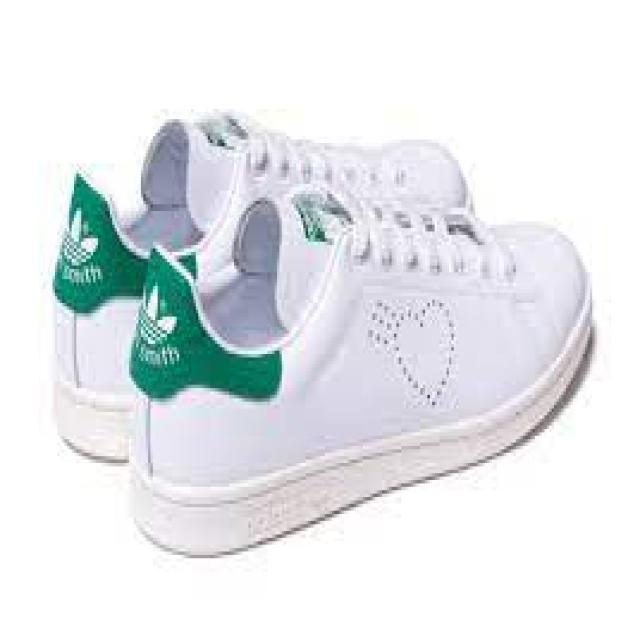shoe: (51, 111, 594, 556), (123, 185, 594, 550)
